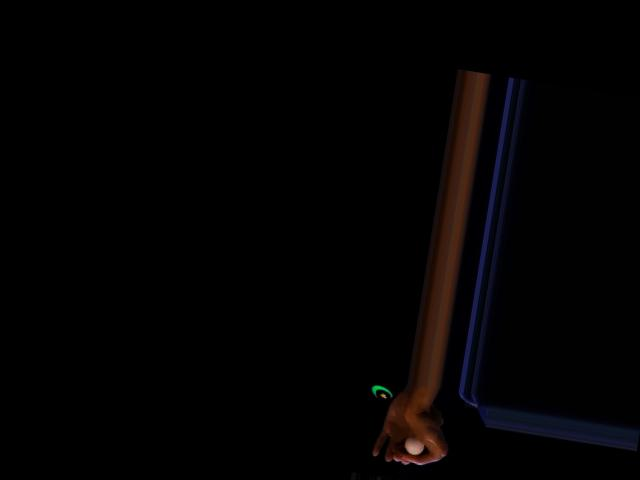egg: (403, 437, 426, 456)
